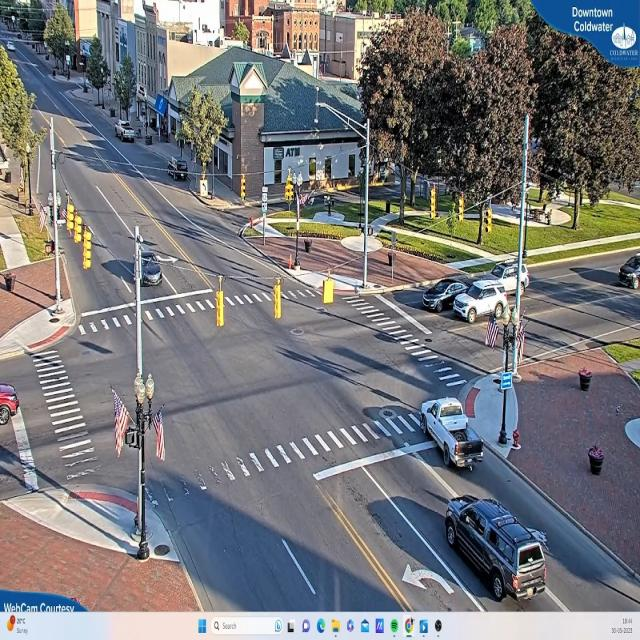car: (445, 494, 552, 602), (421, 397, 485, 470), (453, 287, 510, 324), (480, 264, 531, 299), (422, 280, 475, 312), (1, 384, 22, 424), (618, 252, 640, 290), (142, 253, 164, 288), (117, 121, 138, 142)
